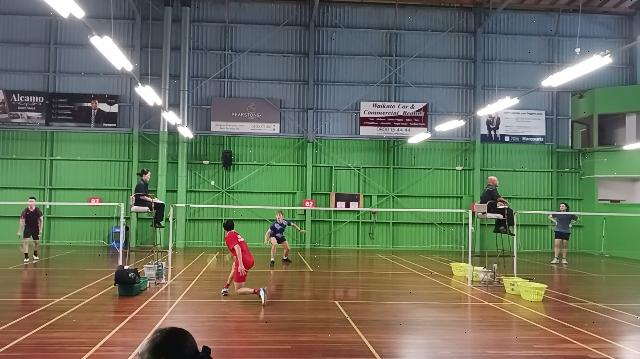Shuttlecock: (208, 176, 220, 188), (206, 178, 216, 184)
